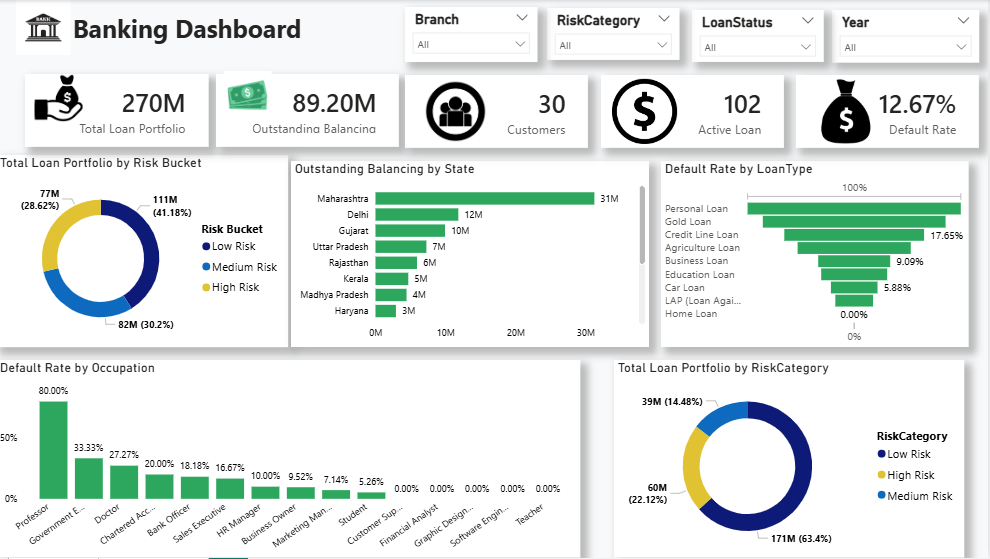

What the dashboard file says about the page in this screenshot:
{"tool":"powerbi","page":{"name":"Risk Analysis","canvas":[1280,720],"ordinal":1},"visuals":[{"type":"donutChart","fields":{"Category":["CUST.Risk Bucket"],"Y":["Measure.Total Loan Portfolio"]},"box":[0,199.8,377,248],"z":0},{"type":"clusteredBarChart","fields":{"Category":["CUST.State"],"Y":["Measure.Outstanding Balancing"]},"box":[381.3,208.3,462,239.5],"z":1000},{"type":"funnel","fields":{"Y":["Measure.Default Rate"],"Category":["PROD.LoanType"]},"box":[857.5,208.3,396.9,239.5],"z":2000},{"type":"clusteredColumnChart","fields":{"Category":["CUST.Occupation"],"Y":["Measure.Default Rate"]},"box":[0,464.9,754,255.1],"z":3000},{"type":"donutChart","fields":{"Category":["PROD.RiskCategory"],"Y":["Measure.Total Loan Portfolio"]},"box":[798,464.9,452.1,255.1],"z":4000},{"type":"cardVisual","fields":{"Data":["Measure.Total Loan Portfolio"]},"box":[36.9,95,236.7,93.5],"z":4001,"group":"g1"},{"type":"cardVisual","fields":{"Data":["Measure.Outstanding Balancing"]},"box":[282.9,96.4,236.2,93.6],"z":4002,"group":"g2"},{"type":"cardVisual","fields":{"Data":["Measure.Customers"]},"box":[527.2,96.4,236.2,93.6],"z":4003,"group":"g3"},{"type":"cardVisual","fields":{"Data":["Measure.Active Loan"]},"box":[780.9,96.4,236.2,93.6],"z":4004,"group":"g4"},{"type":"cardVisual","fields":{"Data":["Measure.Default Rate"]},"box":[1031.8,96.4,236.2,93.6],"z":4005,"group":"g5"},{"type":"slicer","fields":{"Values":["DataTabel.Year"]},"box":[1078.6,12.8,189.9,68],"z":4006},{"type":"slicer","fields":{"Values":["Loan_Fact.LoanStatus"]},"box":[898.6,12.8,170.1,66.6],"z":4007},{"type":"slicer","fields":{"Values":["PROD.RiskCategory"]},"box":[711.5,9.9,171.5,66.6],"z":4008},{"type":"textbox","box":[80.8,8.5,330.2,56.7],"z":4009},{"type":"slicer","fields":{"Values":["Loan_Fact.Branch"]},"box":[527.2,8.5,171.5,70.9],"z":4010},{"type":"image","box":[8.6,0,103.7,70.6],"z":4011},{"type":"image","box":[38.3,95,83.6,62.4],"z":4012,"group":"g1"},{"type":"image","box":[282,92.1,83.6,62.4],"z":4013,"group":"g2"},{"type":"image","box":[550.2,96.4,83.5,93.6],"z":4014,"group":"g3"},{"type":"image","box":[1054.8,96.4,83.5,93.6],"z":4015,"group":"g5"},{"type":"image","box":[795.3,96.4,83.5,93.6],"z":4016,"group":"g4"},{"type":"group","id":"g1","title":"Group 1","box":[36.9,95,236.7,93.5],"z":4017},{"type":"group","id":"g2","title":"Group 2","box":[282,92.1,238.1,97.8],"z":4018},{"type":"group","id":"g3","title":"Group 3","box":[527.2,96.4,235.3,93.5],"z":4019},{"type":"group","id":"g4","title":"Group 4","box":[780.9,96.4,235.3,93.5],"z":4020},{"type":"group","id":"g5","title":"Group 5","box":[1031.8,96.4,236.7,93.5],"z":4021}]}

Visuals, with their boxes in screenshot pixels (x1, y1, x2, y2), scaled from the page's 1280x720 canvas onto the 990x559 screenshot:
donutChart - CUST.Risk Bucket x Measure.Total Loan Portfolio: 0/155/292/348
clusteredBarChart - CUST.State x Measure.Outstanding Balancing: 295/162/652/348
funnel - Measure.Default Rate x PROD.LoanType: 663/162/970/348
clusteredColumnChart - CUST.Occupation x Measure.Default Rate: 0/361/583/558
donutChart - PROD.RiskCategory x Measure.Total Loan Portfolio: 617/361/967/558
cardVisual - Measure.Total Loan Portfolio: 29/74/212/146
cardVisual - Measure.Outstanding Balancing: 219/75/401/148
cardVisual - Measure.Customers: 408/75/590/148
cardVisual - Measure.Active Loan: 604/75/787/148
cardVisual - Measure.Default Rate: 798/75/981/148
slicer - DataTabel.Year: 834/10/981/63
slicer - Loan_Fact.LoanStatus: 695/10/827/62
slicer - PROD.RiskCategory: 550/8/683/59
textbox: 62/7/318/51
slicer - Loan_Fact.Branch: 408/7/540/62
image: 7/0/87/55
image: 30/74/94/122
image: 218/72/283/120
image: 426/75/490/148
image: 816/75/880/148
image: 615/75/680/148
"Group 1" group: 29/74/212/146
"Group 2" group: 218/72/402/147
"Group 3" group: 408/75/590/147
"Group 4" group: 604/75/786/147
"Group 5" group: 798/75/981/147
